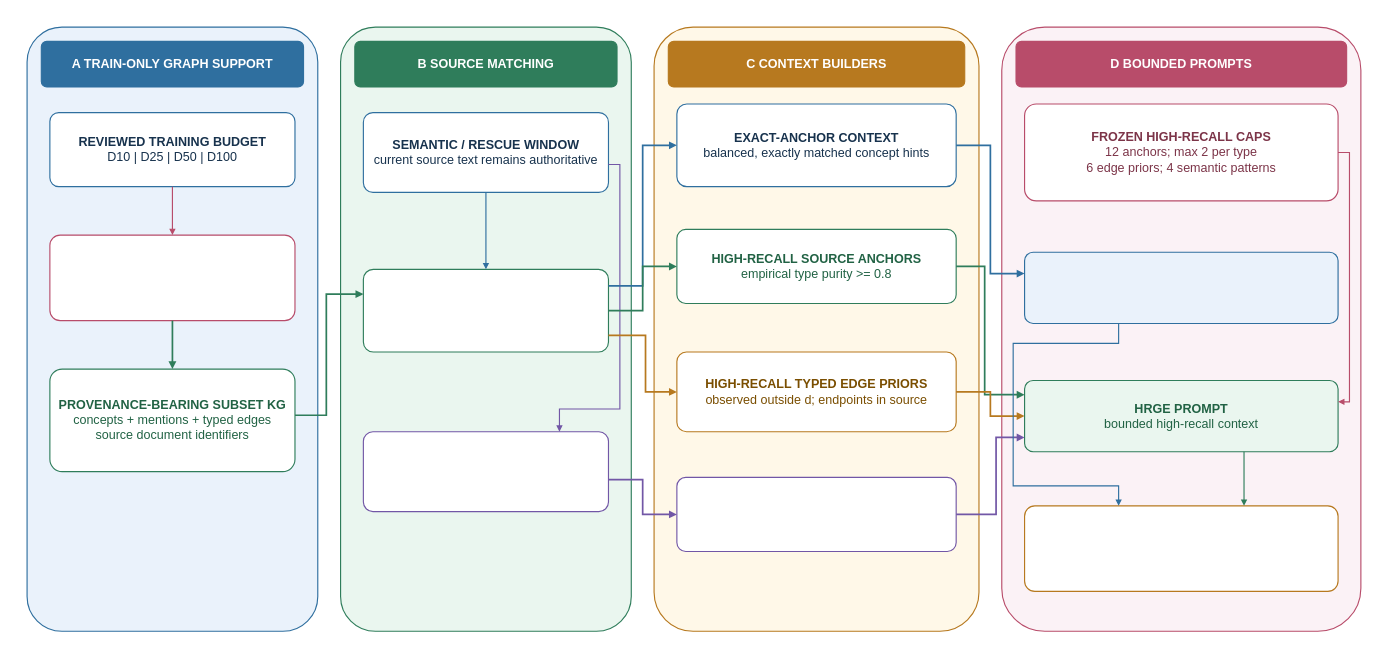
Some shapes in this 1387 by 658 pixel diagram are drawn without their labels. Here are the shapes that lost their labels. From the top down, the centre of each, then its label:
At [172,277]: "PROVENANCE ISOLATION GATE exclude candidates supported only by d".
At [1181,287]: "EAE PROMPT exact conservative hints".
At [486,310]: "EXACT SOURCE MATCHING mention anchors + endpoint co-occurrence".
At [486,471]: "SEMANTIC RETRIEVAL frozen BGE-M3".
At [816,514]: "HIGH-RECALL SEMANTIC PATTERNS BGE-M3 similarity >= 0.72".
At [1181,548]: "SEPARATE QLoRA RUNS hints are not facts unsupported output is forbidden".
